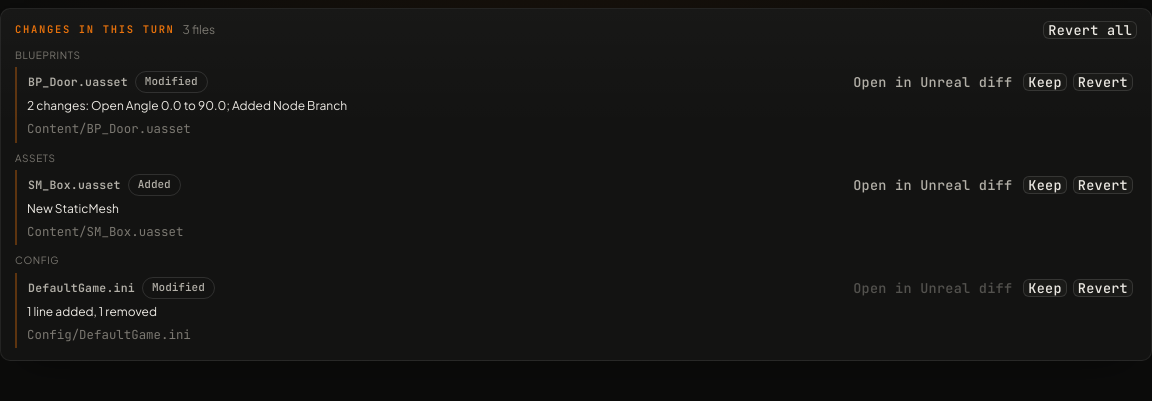
Test: the turn card › gives every item its one-line summary, and opens Unreal's diff where the engine has one
The width and height of the screenshot is (1152, 401).
Check: the text "2 changes: Open Angle 0.0 to 90.0; Added Node Branch" is shown, box [27, 98, 347, 113]
Check: the text "1 line added, 1 removed" is shown, box [27, 304, 157, 319]
What coordinates should you click on to do the following:
click the 1st button "Open in Unreal diff"
I would click on:
 (933, 82)
Its box is [848, 73, 1017, 91].
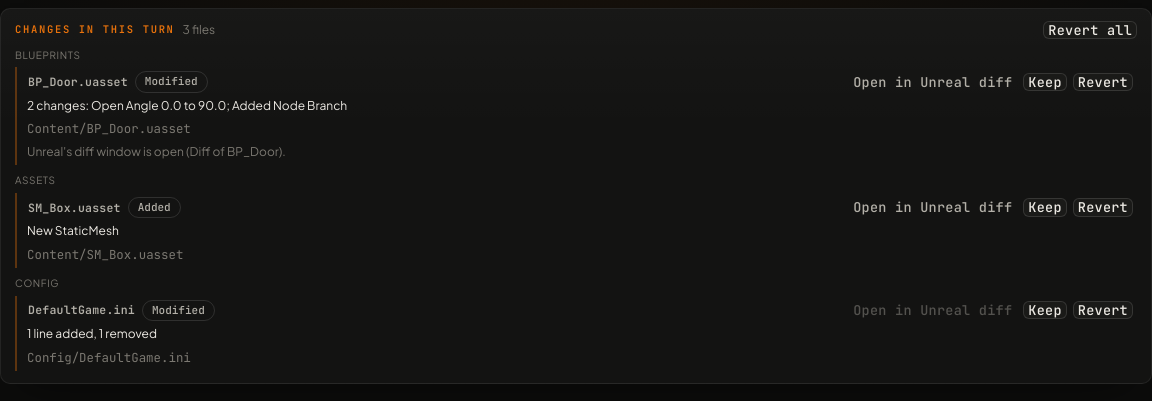
Check: the message reads "Unreal's diff window is open (Diff of BP_Door).", box [27, 144, 286, 158]
